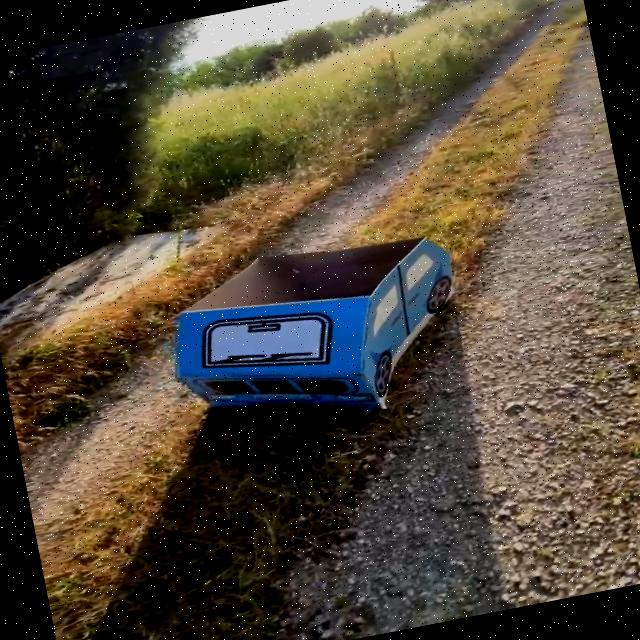blue_car: (102, 188, 522, 484)
